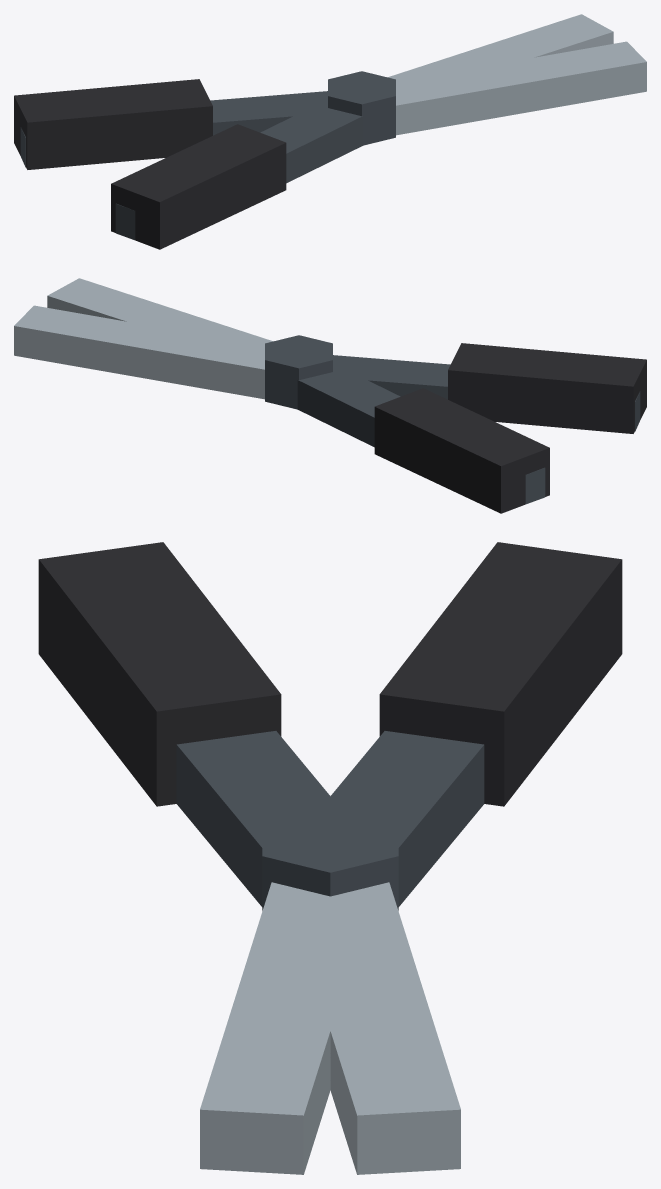
Rendered from GT_Pliers_01.glb.
3 views of the same model, one above another, from view 1: azimuth 30°, elevation 25°; view 2: azimuth 150°, elevation 25°; view 3: azimuth 270°, elevation 25° (orthographic). The views are drawn at different scales.
Visible parts, largest first — view 1: GT_Pliers_01; view 2: GT_Pliers_01; view 3: GT_Pliers_01.
Boxes of the visible parts, x1,y1,x2,y2 form: GT_Pliers_01: (14,14,646,249); GT_Pliers_01: (14,278,646,513); GT_Pliers_01: (38,542,622,1174).
Size of the model in its own units: 0.1942 by 0.016 by 0.089.
1 material, 1 textured.
